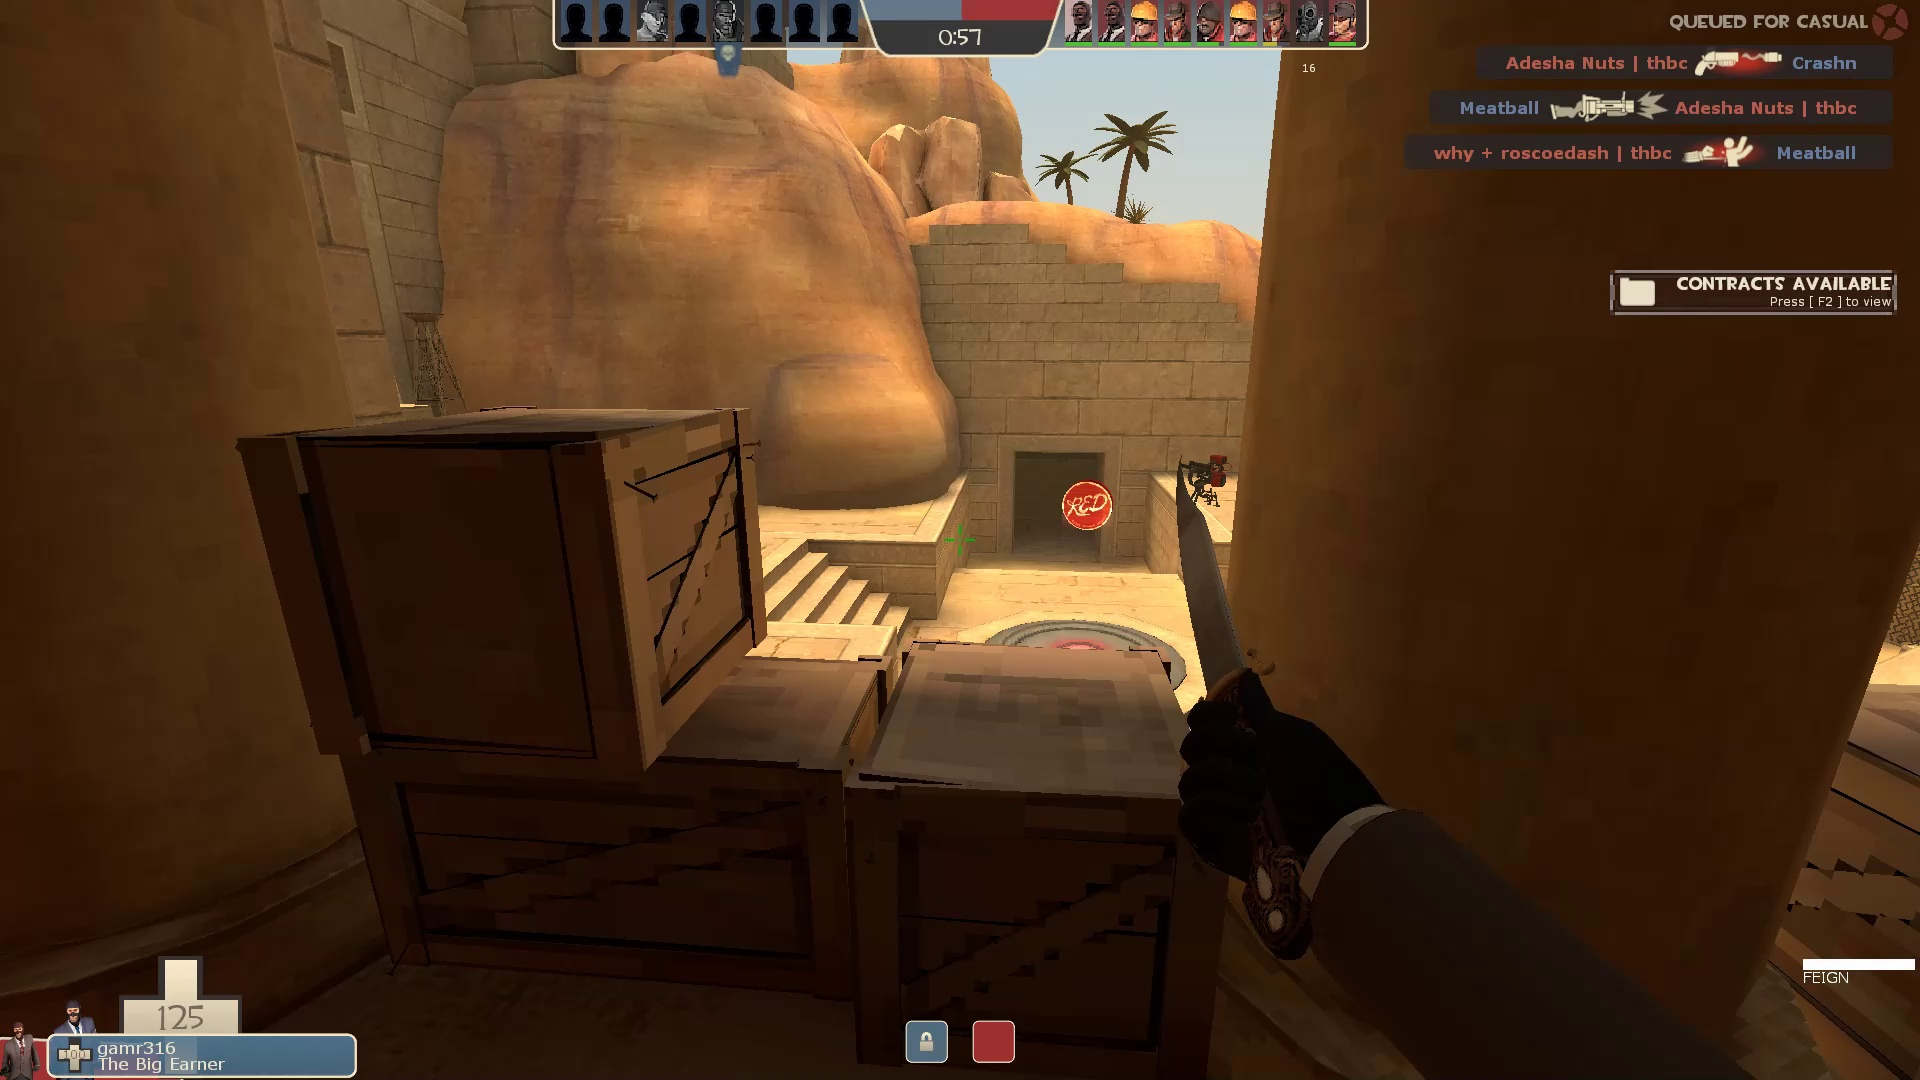red_sentry_3: (1175, 446, 1230, 513)
